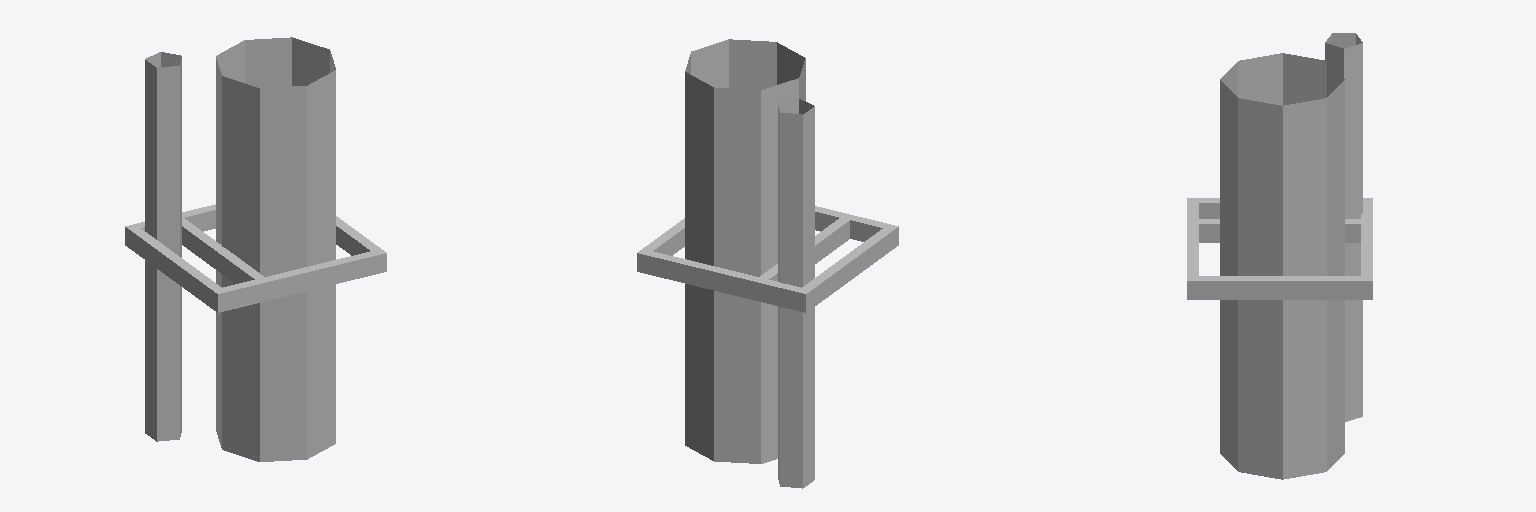
Rendered from Pipes_D_Short.obj.
The picture shows the model from 3 angles: view 1: azimuth 30°, elevation 25°; view 2: azimuth 150°, elevation 25°; view 3: azimuth 270°, elevation 25°; orthographic projection.
Parts seen in each view (by area): view 1: Pipes_vertical_short; view 2: Pipes_vertical_short; view 3: Pipes_vertical_short.
Part boxes in pixels (x1,y1,x2,y2): Pipes_vertical_short: (125, 37, 386, 461); Pipes_vertical_short: (637, 39, 898, 488); Pipes_vertical_short: (1187, 33, 1372, 479).
Bounding box in the file's own units: 1.09 × 2.29 × 1.03.